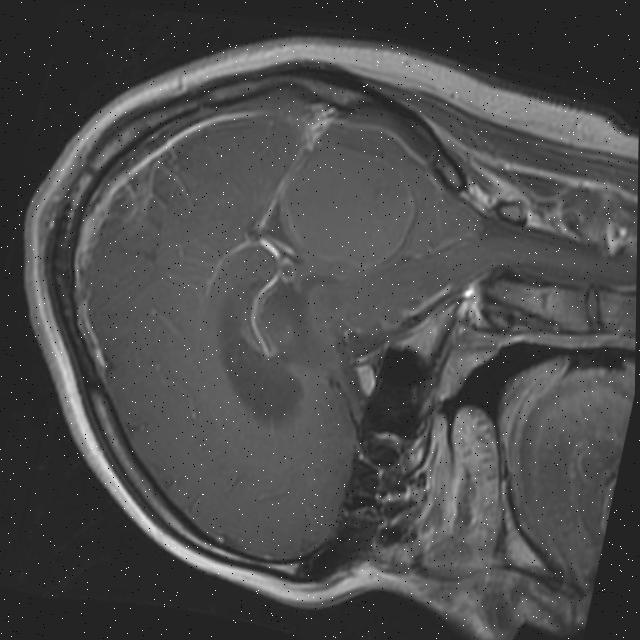Glioma: (263, 127, 428, 287)
Pituitary: (347, 357, 381, 401)
